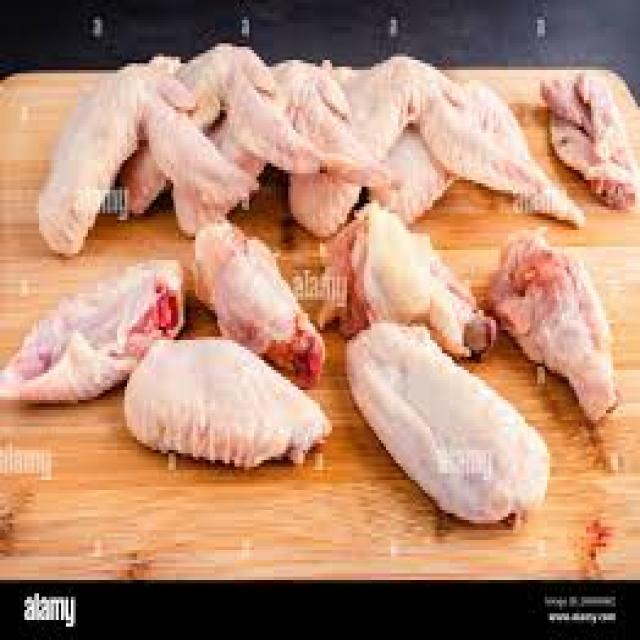Chicken: (34, 40, 586, 258), (340, 317, 554, 530), (124, 326, 334, 486), (308, 197, 497, 363), (484, 230, 624, 433), (178, 212, 335, 393), (0, 261, 189, 411), (533, 63, 640, 211)
